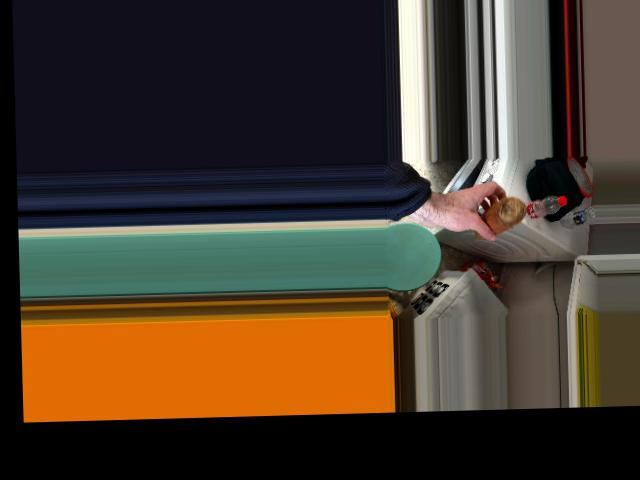sweet_potato: (467, 194, 523, 242)
